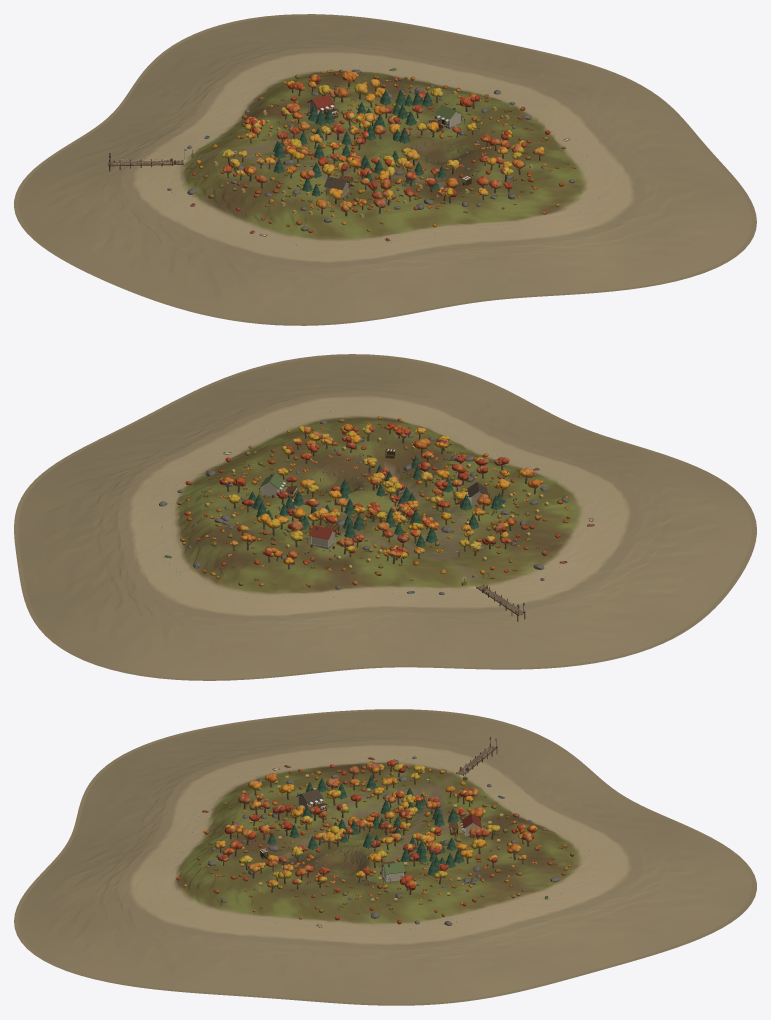
File: amber.glb
3 views of the same model, one above another, from view 1: azimuth 30°, elevation 25°; view 2: azimuth 150°, elevation 25°; view 3: azimuth 270°, elevation 25° (orthographic). The views are drawn at different scales.
Parts seen in each view (by area): view 1: amber; view 2: amber; view 3: amber.
Part boxes in pixels (x1=…): amber: x1=14, y1=14, x2=756, y2=325; amber: x1=14, y1=354, x2=756, y2=680; amber: x1=14, y1=709, x2=756, y2=1005.
Size of the model in its own units: 285 by 21.51 by 302.
